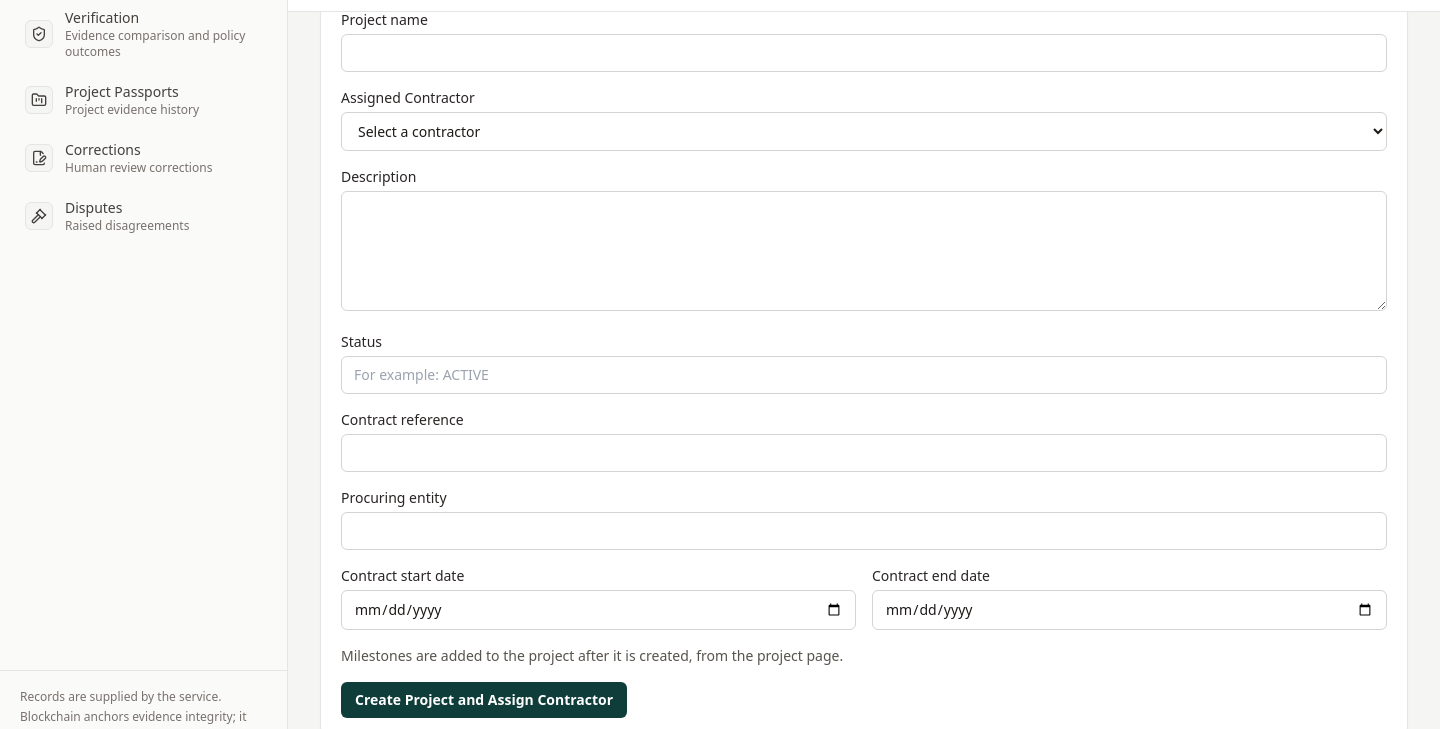
projects › shows a validation error when the project name is missing
The image size is (1440, 729).
(page scrolled)
Click the button "Create Project and Assign Contractor" at x=484, y=700, box [341, 682, 627, 718]
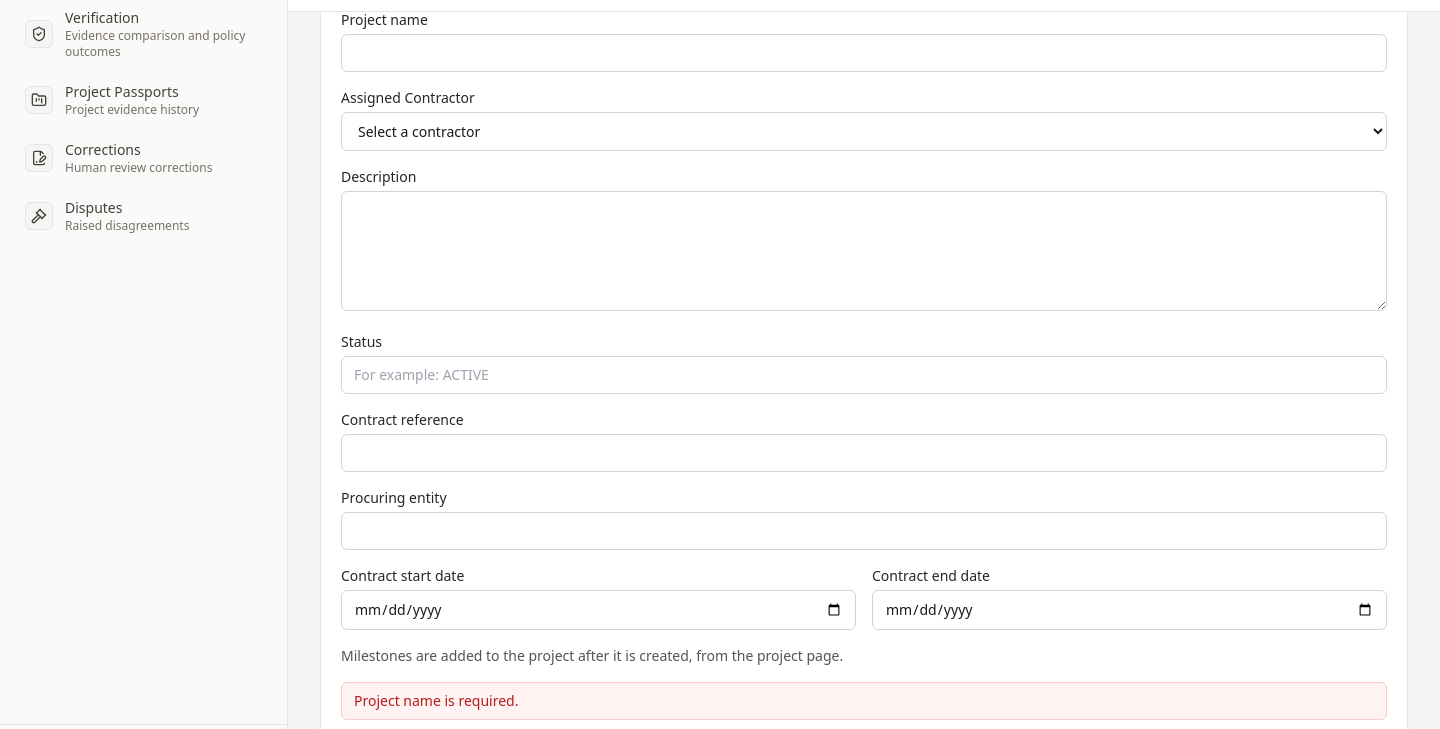
Expected: the text "Project name is required." is shown, [341, 682, 1387, 720]
